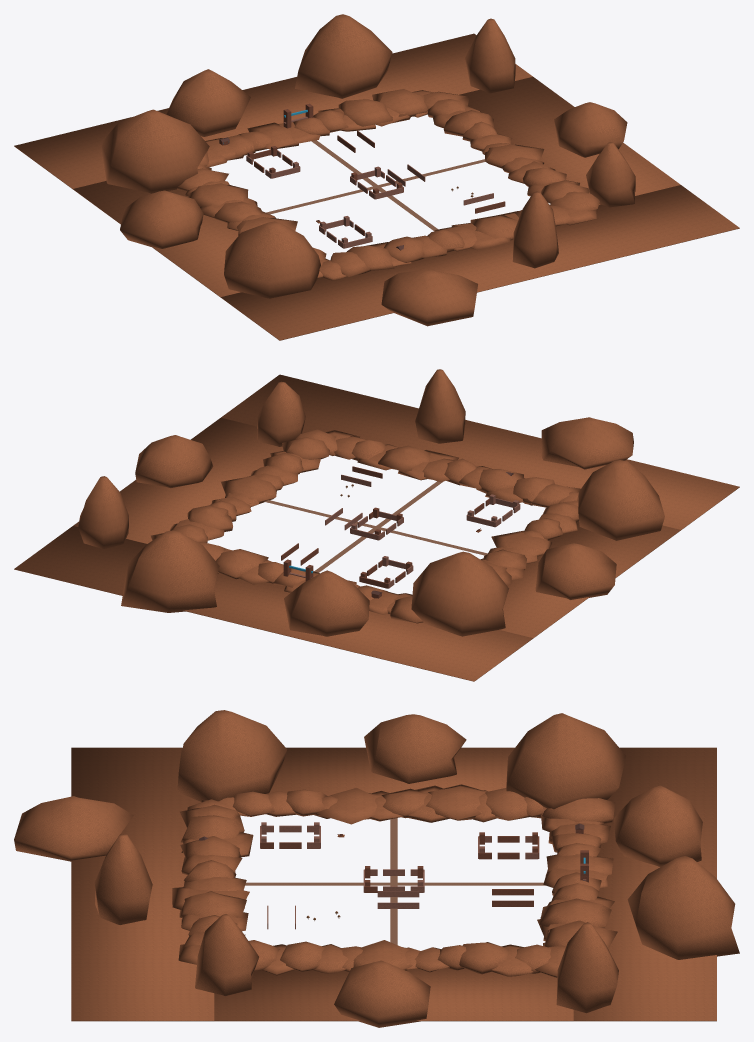
File: kyokoku-lod2.glb
3 renders of one model, top to bottom at view 1: azimuth 30°, elevation 25°; view 2: azimuth 150°, elevation 25°; view 3: azimuth 270°, elevation 25°, orthographic. The views are drawn at different scales.
Visible parts, largest first — view 1: HB_kyokoku_LOD2_terrain, HB_kyokoku_LOD2_wall, HB_kyokoku_LOD2_wall_alt, HB_kyokoku_LOD2_road; view 2: HB_kyokoku_LOD2_terrain, HB_kyokoku_LOD2_wall, HB_kyokoku_LOD2_wall_alt, HB_kyokoku_LOD2_road; view 3: HB_kyokoku_LOD2_terrain, HB_kyokoku_LOD2_wall_alt, HB_kyokoku_LOD2_wall, HB_kyokoku_LOD2_road.
Boxes of the visible parts, x1,y1,x2,y2 form: HB_kyokoku_LOD2_terrain: (14,14,739,340); HB_kyokoku_LOD2_wall: (246,116,493,248); HB_kyokoku_LOD2_wall_alt: (219,103,505,250); HB_kyokoku_LOD2_road: (266,140,485,231); HB_kyokoku_LOD2_terrain: (14,369,739,681); HB_kyokoku_LOD2_wall: (289,474,520,588); HB_kyokoku_LOD2_wall_alt: (281,466,513,598); HB_kyokoku_LOD2_road: (264,481,487,572); HB_kyokoku_LOD2_terrain: (14,710,739,1027); HB_kyokoku_LOD2_wall_alt: (260,829,588,929); HB_kyokoku_LOD2_wall: (260,822,586,929); HB_kyokoku_LOD2_road: (245,818,545,944).
Bounding box in the file's own units: 626 × 79.41 × 659.
Materials: 9 (8 with a texture image).
